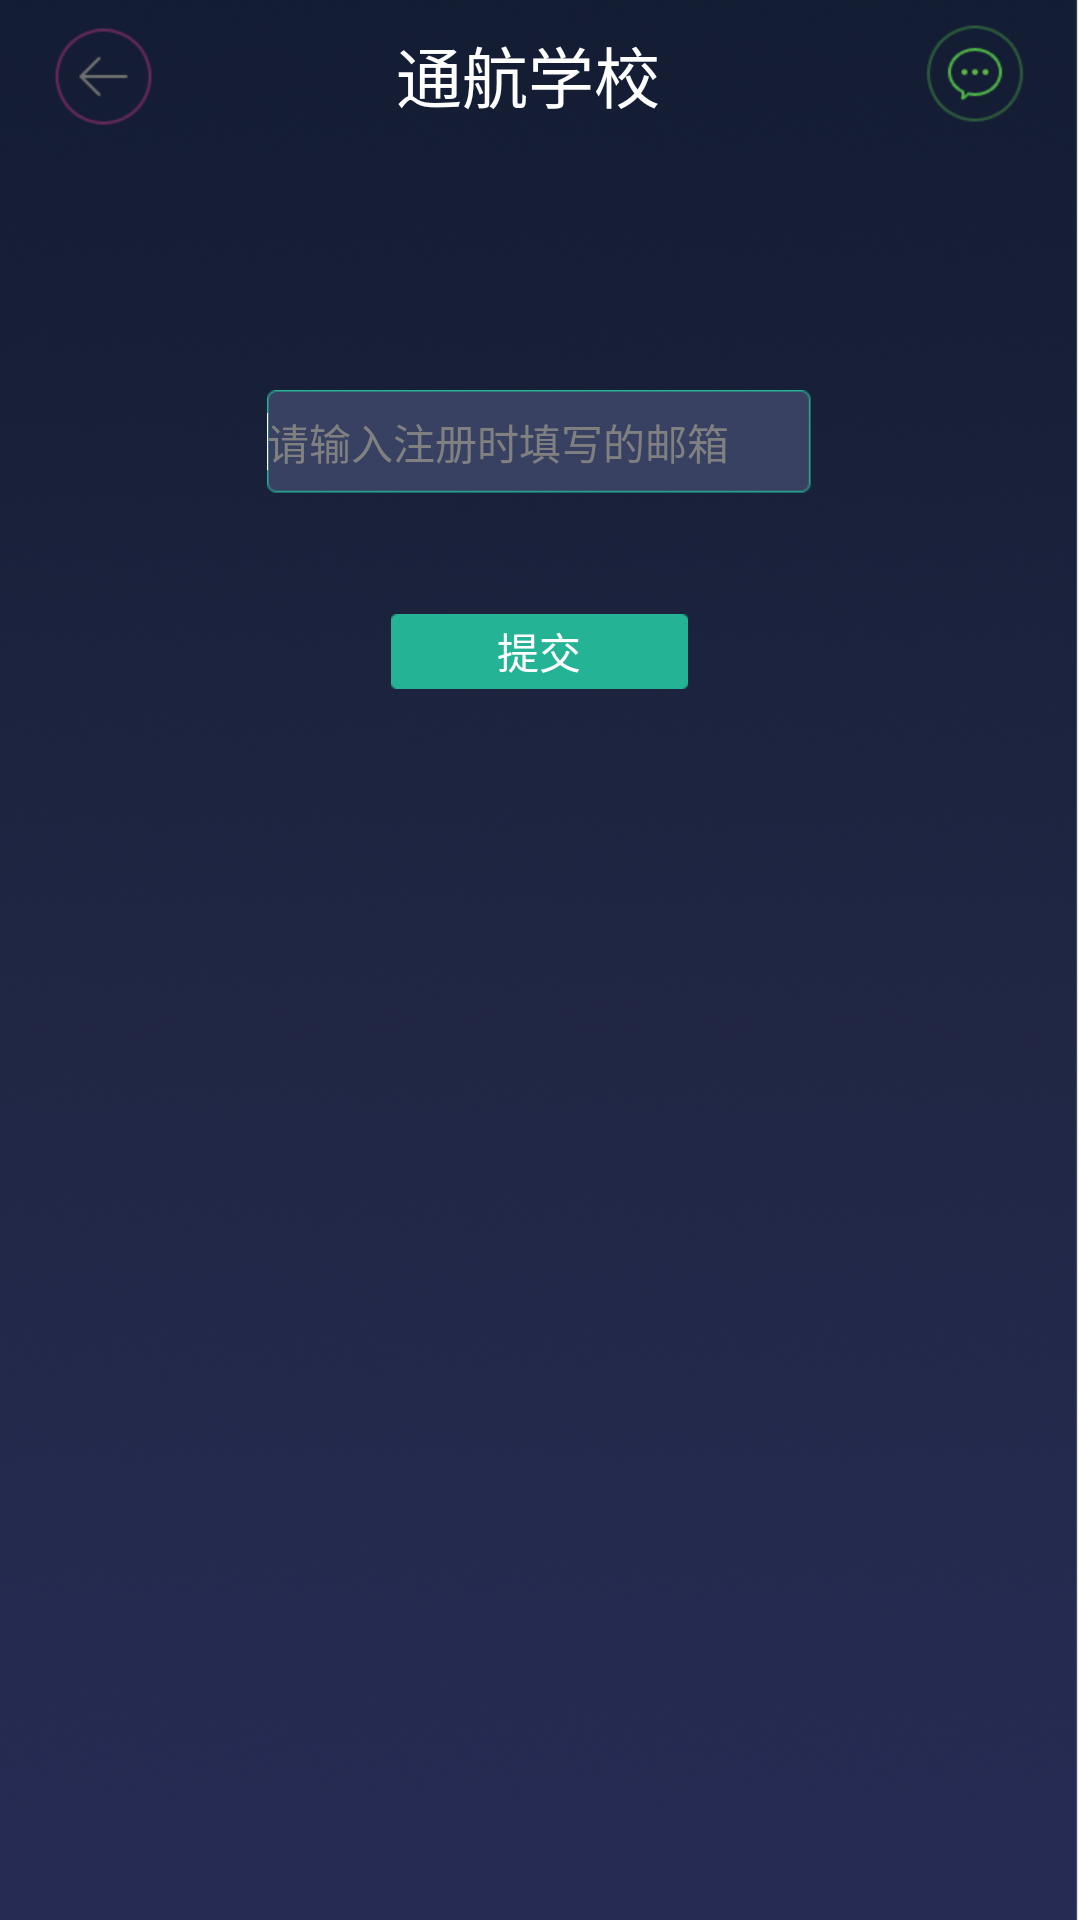

Point at icon controls on the screen. Image size 1080px x 1920px, points as (x,y).
back: (103,76)
